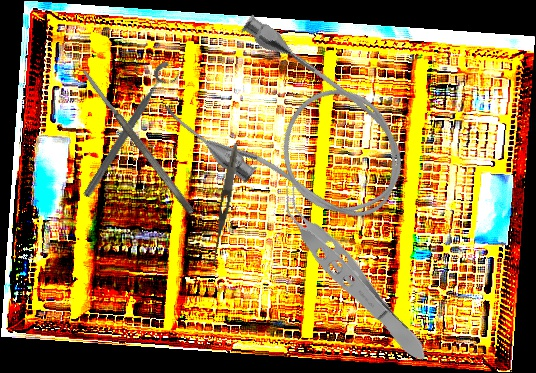Cannula: (156, 4, 432, 256)
Dressing Forceps: (210, 142, 241, 262)
Fixation Ring: (78, 57, 184, 206)
Spatula Surgical: (79, 65, 196, 217)
Tissue Forceps: (265, 179, 438, 371)
